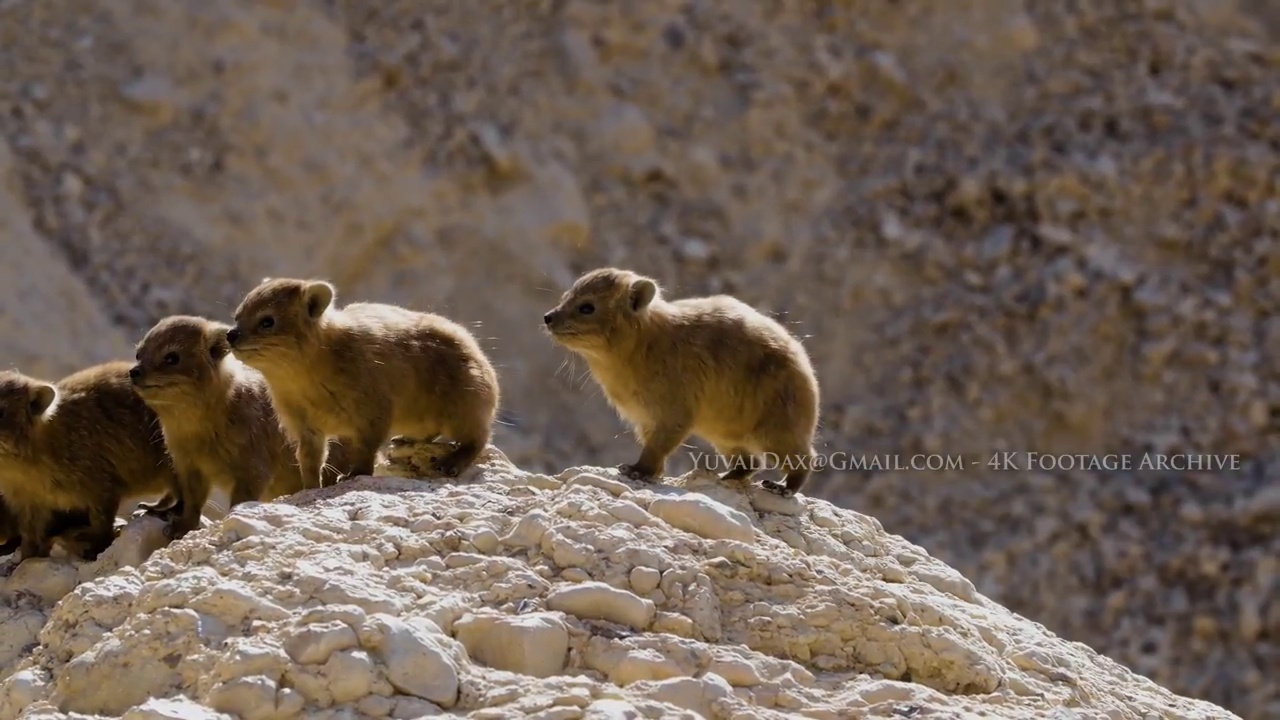Rock Hyrex: (541, 268, 818, 501), (226, 279, 502, 507), (124, 313, 312, 536), (1, 358, 164, 567)
